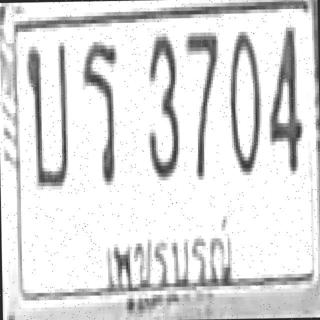A26: (24, 36, 68, 188)
A35: (79, 37, 119, 182)
N00: (227, 30, 261, 174)
N03: (144, 29, 178, 177)
N04: (266, 23, 302, 171)
N07: (184, 30, 218, 178)
P43: (100, 210, 238, 295)
